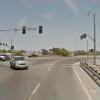Traffic light: (18, 17, 54, 43)
